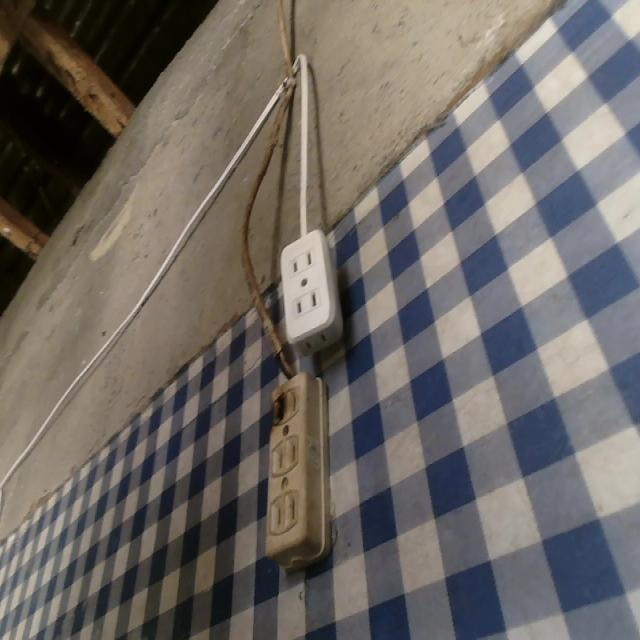-: (261, 388, 287, 424)
